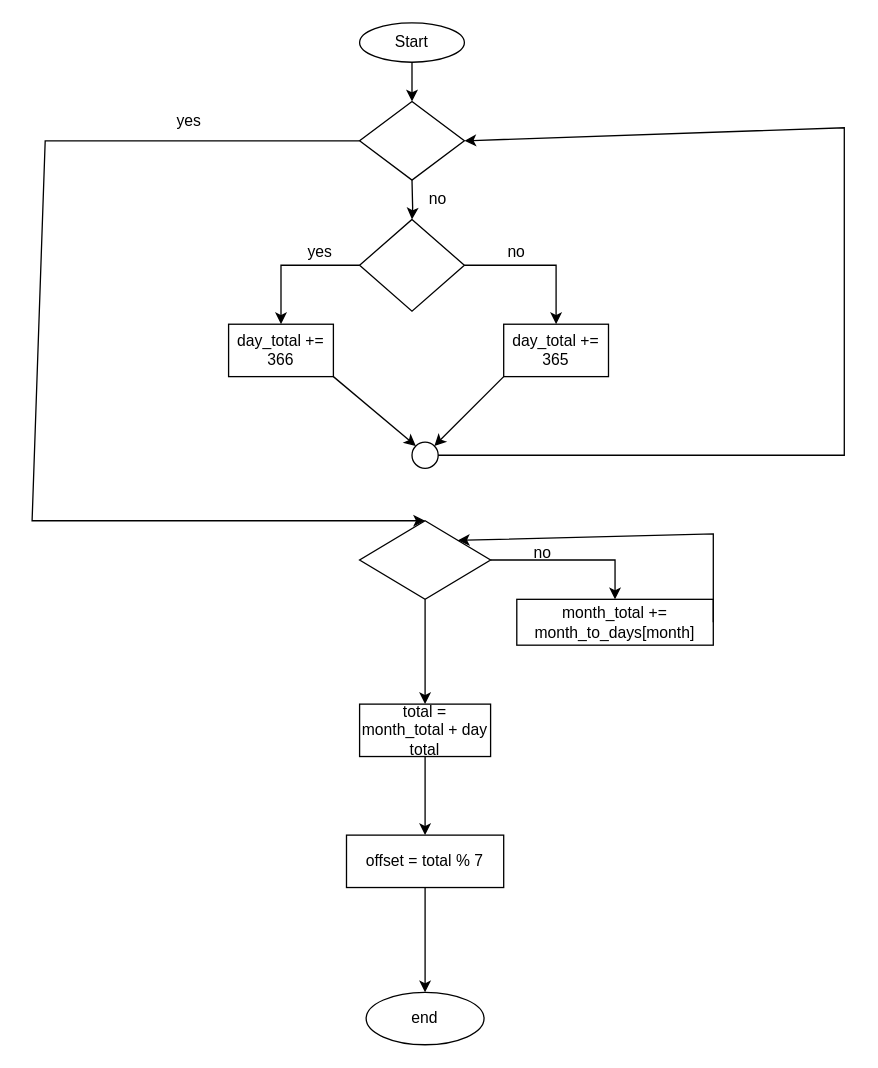
The diagram is 878 pixels wide and 1068 high, and some of its shapes have lost their labels. The centre of each missing label's shape, as x and y in pixels:
is a leap year?: pixel 411 264
user input year?: pixel 411 140
user month number?: pixel 424 559
